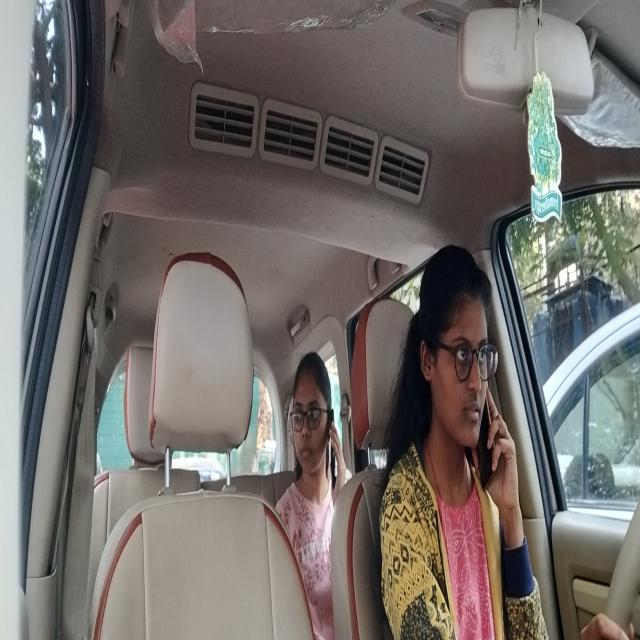mobile: (476, 387, 501, 490), (324, 403, 340, 475)
person: (414, 240, 509, 500), (286, 349, 343, 480)
